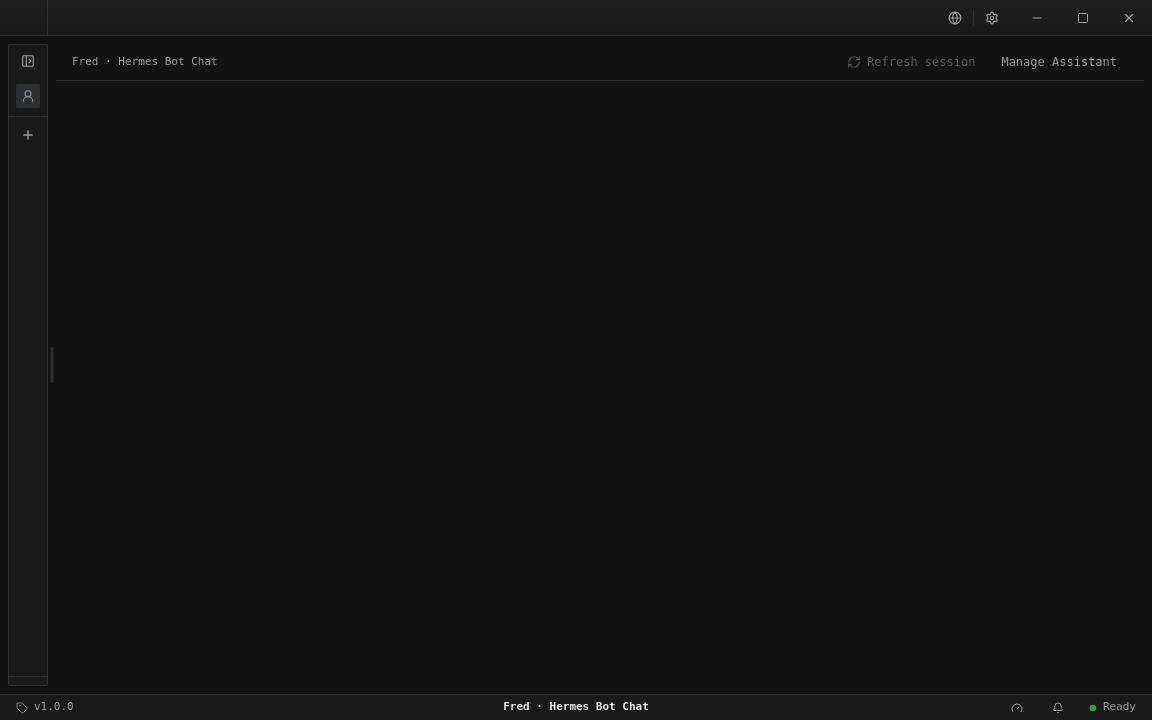
zero-workspace Assistant shell › collapsed rail: Assistant icon and Open Workspace, never Show Files; plus opens the dialog
Check: the button named "Fred" is shown, box [14,82,42,110]
Check: the button named "Expand sidebar" is shown, box [16,49,40,73]
Click the button named "Open Workspace" at (28, 135), box [16,123,40,147]
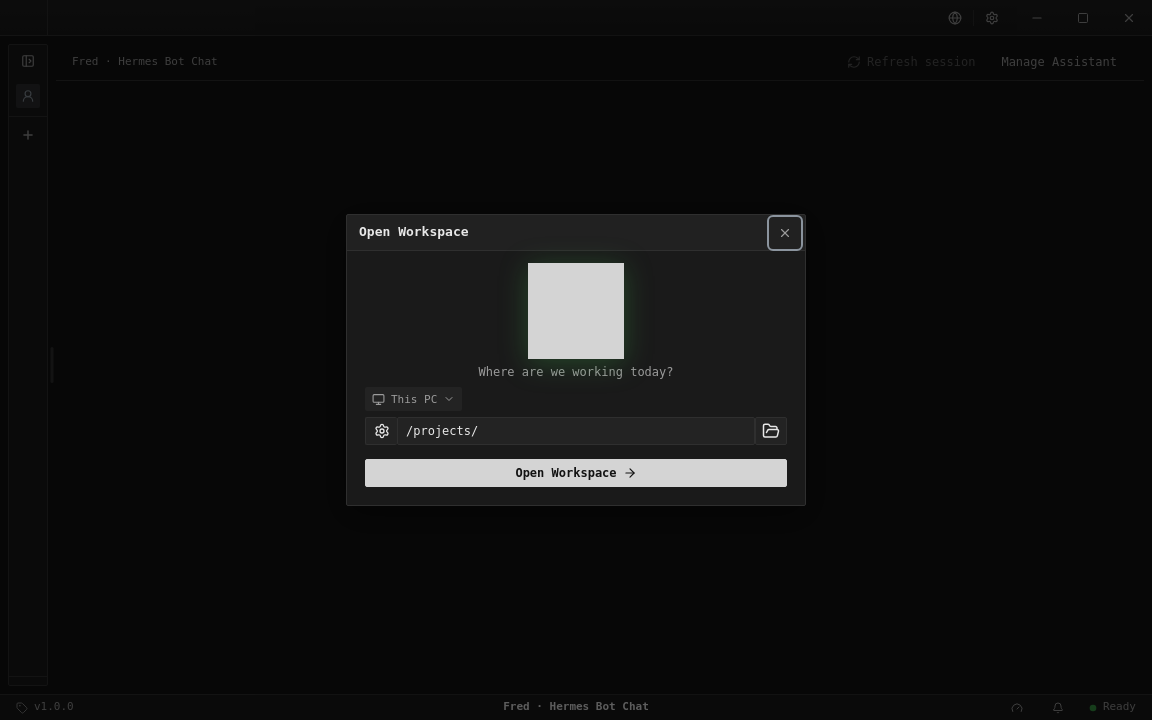
Check: the dialog "Open Workspace" is shown, box [346,214,806,506]
